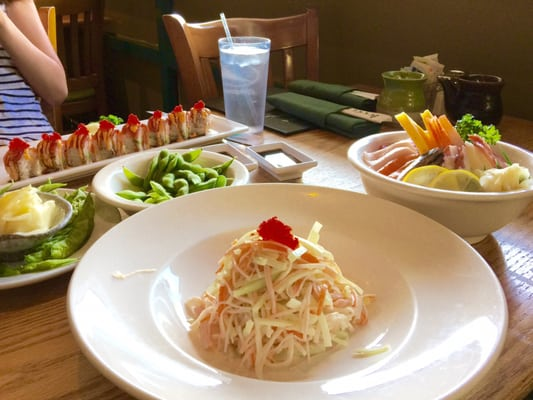pizza: (437, 73, 505, 127)
sushi: (349, 123, 533, 241), (0, 182, 90, 276)
